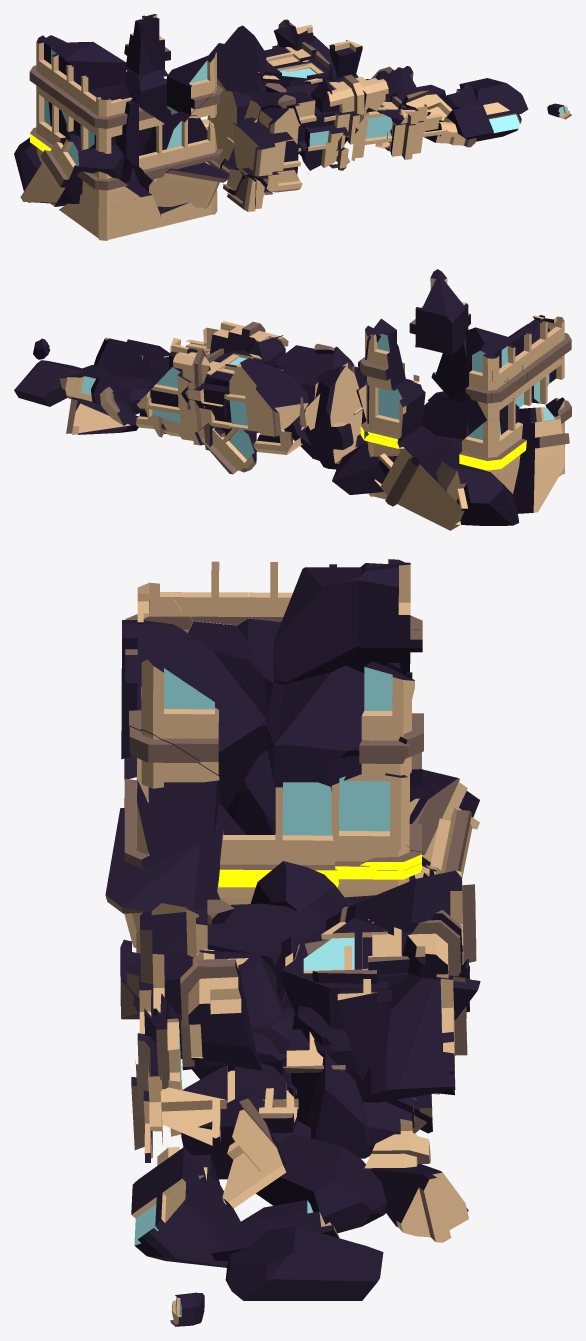
Rendered from Building2.fbx.
3 views of the same model, one above another, from view 1: azimuth 30°, elevation 25°; view 2: azimuth 150°, elevation 25°; view 3: azimuth 270°, elevation 25° (orthographic). The views are drawn at different scales.
Parts seen in each view (by area): view 1: Halffall Destroy; view 2: Halffall Destroy; view 3: Halffall Destroy.
Part boxes in pixels (<box>): Halffall Destroy: <box>14,14,571,240</box>; Halffall Destroy: <box>14,269,571,530</box>; Halffall Destroy: <box>105,559,480,1326</box>.
Size of the model in its own units: 1968 by 604 by 633.
